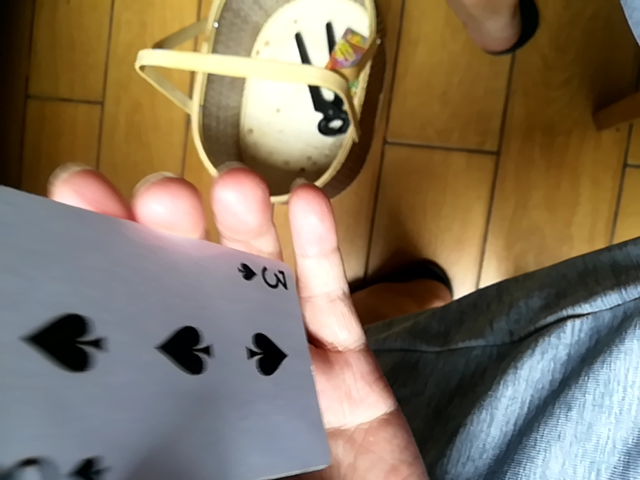ht 3: (0, 171, 326, 478)
